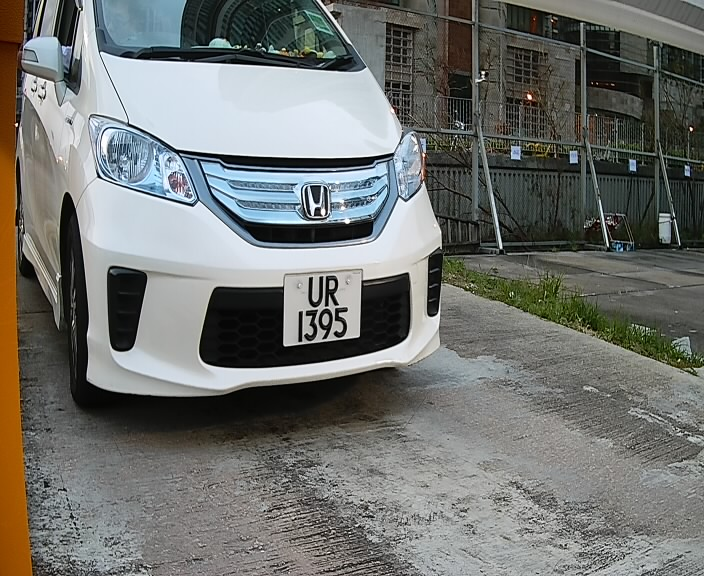License Plate: (279, 266, 367, 353)
